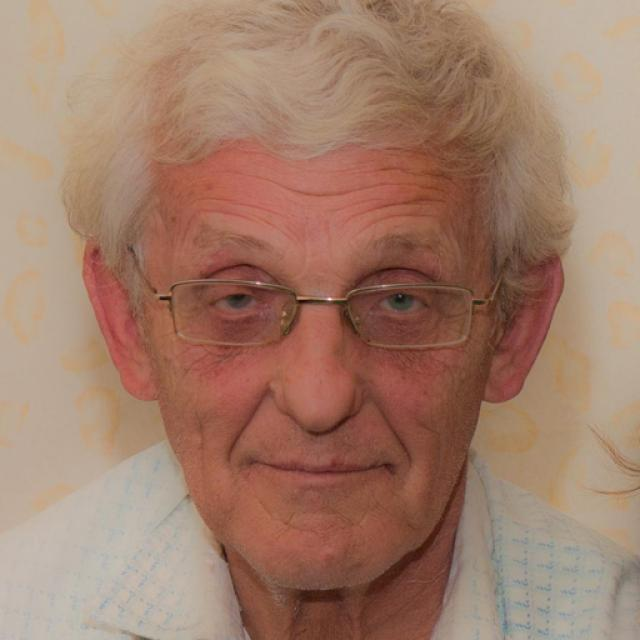content: (149, 138, 503, 586)
